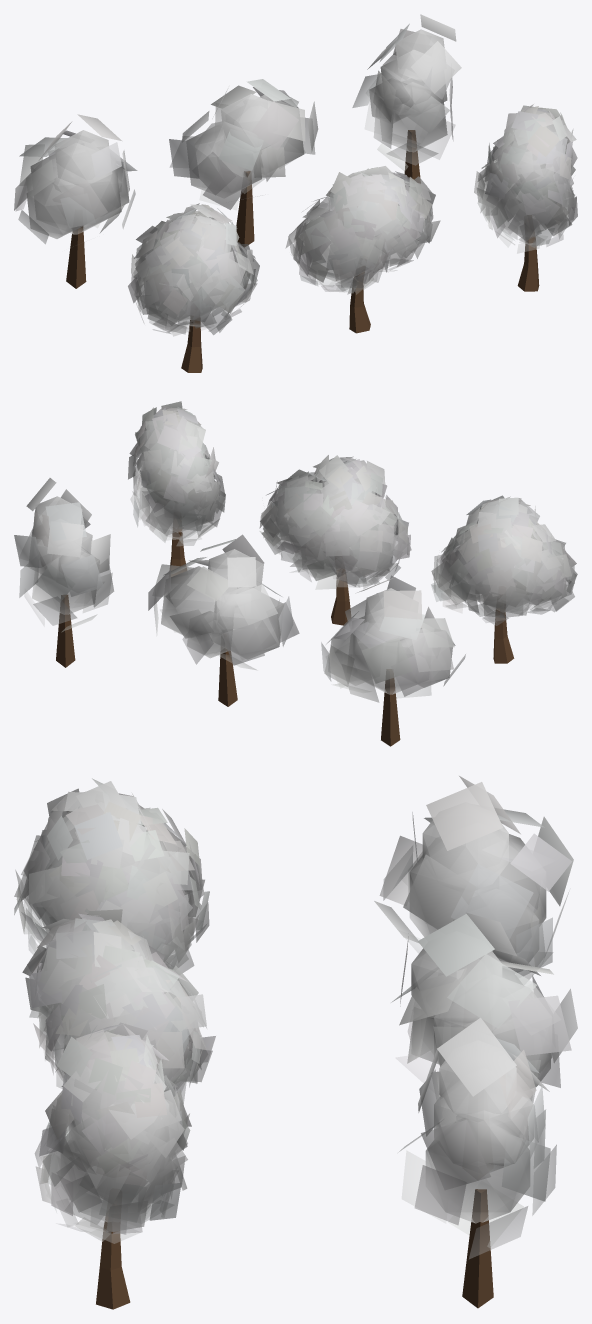
Rendered from trees.glb.
3 views of the same model, one above another, from view 1: azimuth 30°, elevation 25°; view 2: azimuth 150°, elevation 25°; view 3: azimuth 270°, elevation 25° (orthographic). The views are drawn at different scales.
Parts seen in each view (by area): view 1: Tree_B, Tree_A, Tree_B_Far, Tree_C, Tree_A_Far, Tree_C_Far; view 2: Tree_B, Tree_A, Tree_B_Far, Tree_A_Far, Tree_C, Tree_C_Far; view 3: Tree_C, Tree_C_Far, Tree_A, Tree_A_Far, Tree_B, Tree_B_Far.
Boxes of the visible parts, box(x1,y1,x2,y2) form: Tree_B: box(285, 166, 440, 333); Tree_A: box(128, 203, 259, 372); Tree_B_Far: box(169, 79, 318, 247); Tree_C: box(474, 104, 577, 291); Tree_A_Far: box(14, 114, 137, 288); Tree_C_Far: box(352, 14, 461, 186); Tree_B: box(259, 455, 411, 625); Tree_A: box(431, 495, 577, 663); Tree_B_Far: box(148, 534, 299, 706); Tree_A_Far: box(321, 575, 465, 746); Tree_C: box(128, 401, 225, 576); Tree_C_Far: box(14, 478, 113, 667); Tree_C: box(34, 1022, 191, 1309); Tree_C_Far: box(398, 1017, 556, 1308); Tree_A: box(14, 778, 209, 972); Tree_A_Far: box(374, 776, 573, 979); Tree_B: box(22, 909, 215, 1103); Tree_B_Far: box(391, 912, 577, 1102).
Size of the model in its own units: 13.32 by 5.3 by 9.27.
